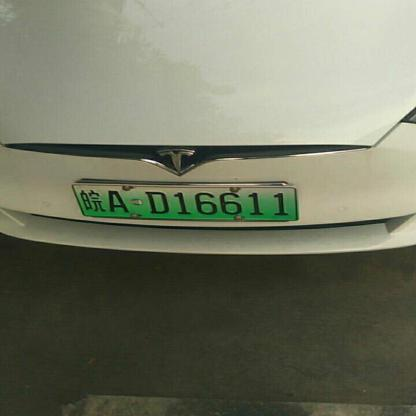lp: (72, 185, 298, 218)
